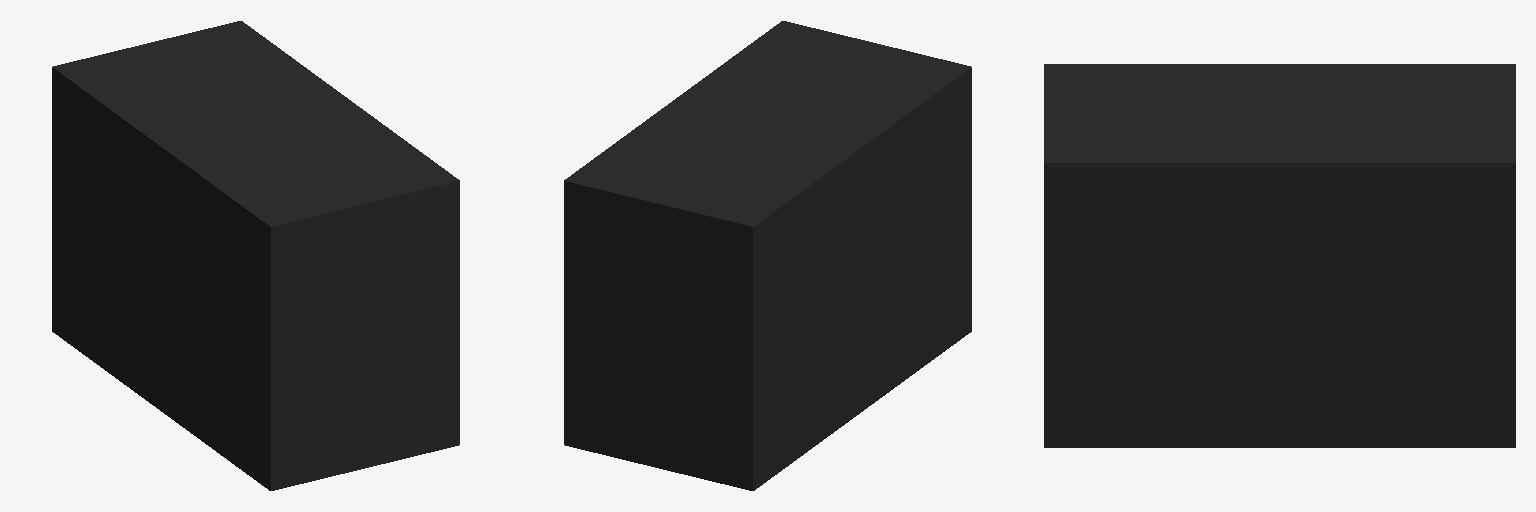
URDF robot description (simple_table):
<?xml version="1.0"?>
<robot name="simple_table">

	<material name="dark">
		<color rgba="0.2 0.2 0.2 1"/>
	</material>

	<link name="base_link">
		<visual>
			<geometry>
				<box size="0.6 1.2 0.8"/>
			</geometry>
			<material name="dark"/>
		</visual>
		<collision>
			<geometry>
				<box size="0.6 1.2 0.8"/>
			</geometry>
		</collision>
	</link>
</robot>

--- Render facts (derived) ---
The picture shows the robot from 3 angles, left to right: view 1: azimuth 30°, elevation 25°; view 2: azimuth 150°, elevation 25°; view 3: azimuth 270°, elevation 25°; orthographic projection.
Robot: simple_table — 1 links, 0 joints (none); root link base_link; default pose: all joints at 0.
Visible links, largest first — view 1: base_link; view 2: base_link; view 3: base_link.
Boxes of the visible links, x1,y1,x2,y2 form: base_link: (52, 21, 459, 490); base_link: (564, 21, 971, 490); base_link: (1044, 64, 1515, 447).
Size in the robot's own frame: 0.6 by 1.2 by 0.8 metres.
Geometry: primitives only (box / cylinder / sphere), no mesh files.